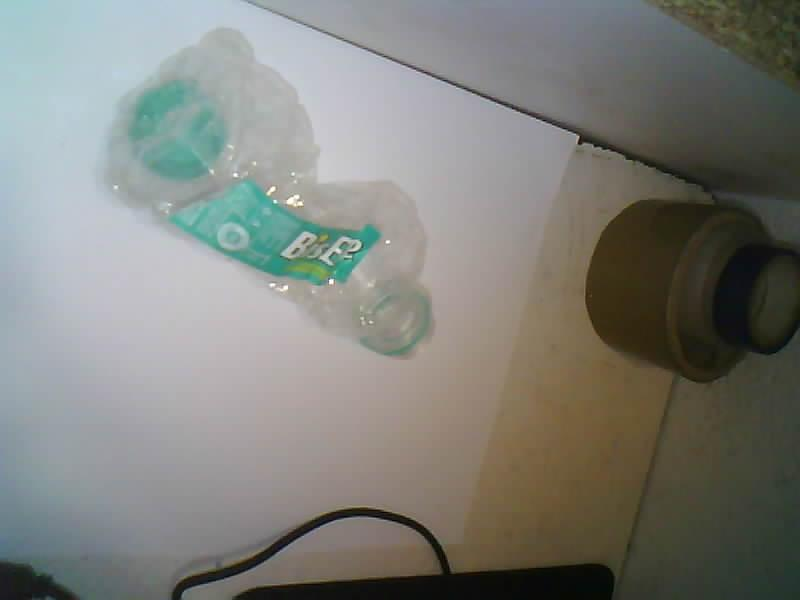non-biodegradable: (106, 28, 432, 355)
